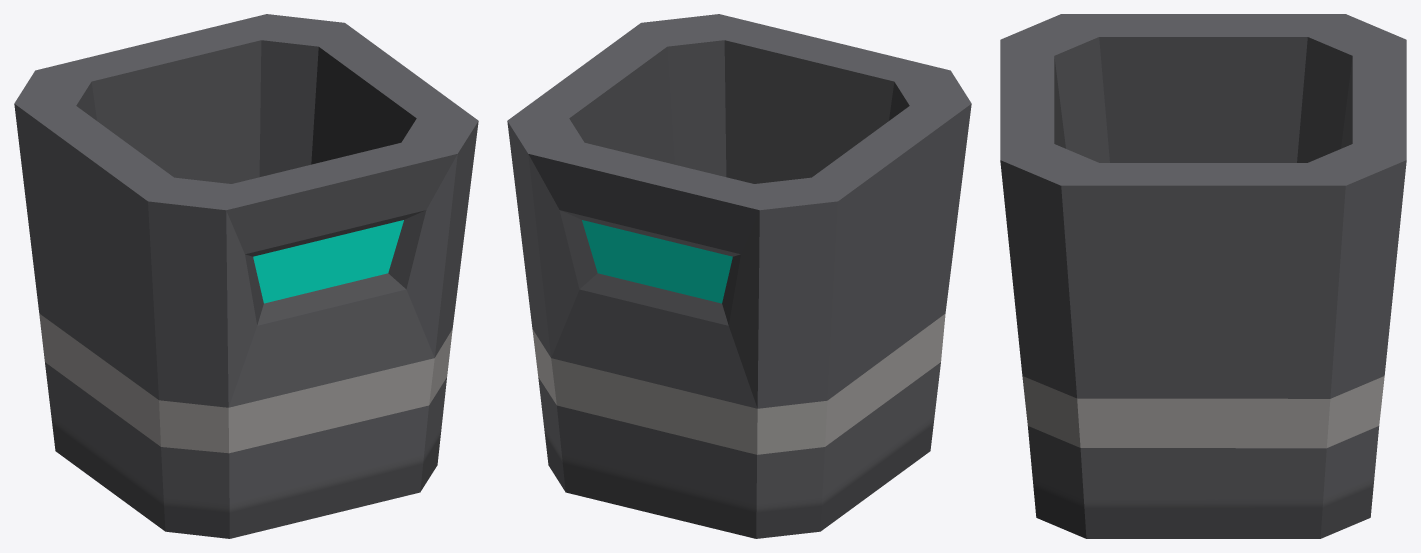
File: SM_Prop_Bin_Small_01.fbx
The picture shows the model from 3 angles, left to right: view 1: azimuth 30°, elevation 25°; view 2: azimuth 150°, elevation 25°; view 3: azimuth 270°, elevation 25°; orthographic projection. The views are drawn at different scales.
Parts seen in each view (by area): view 1: SM_Prop_Bin_Small_01; view 2: SM_Prop_Bin_Small_01; view 3: SM_Prop_Bin_Small_01.
Boxes of the visible parts, x1,y1,x2,y2 form: SM_Prop_Bin_Small_01: (14, 14, 478, 538); SM_Prop_Bin_Small_01: (507, 14, 971, 538); SM_Prop_Bin_Small_01: (1000, 14, 1406, 538).
Bounding box in the file's own units: 44.75 × 44.75 × 44.75.
